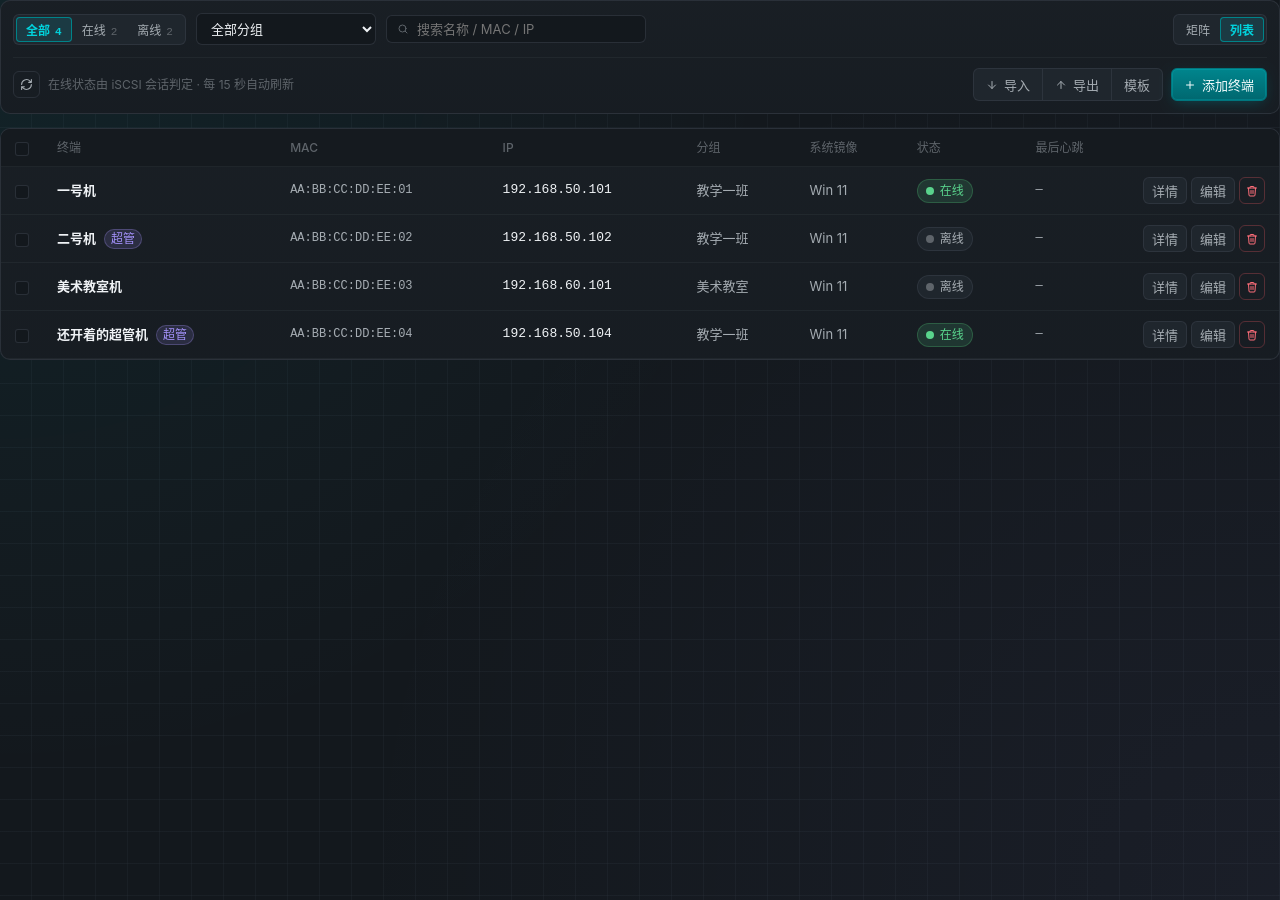
在线的客户机，编辑表单里的终端类型开关也禁用
Click the button "编辑" in the row of "一号机": (1213, 191) [1191,177,1235,204]
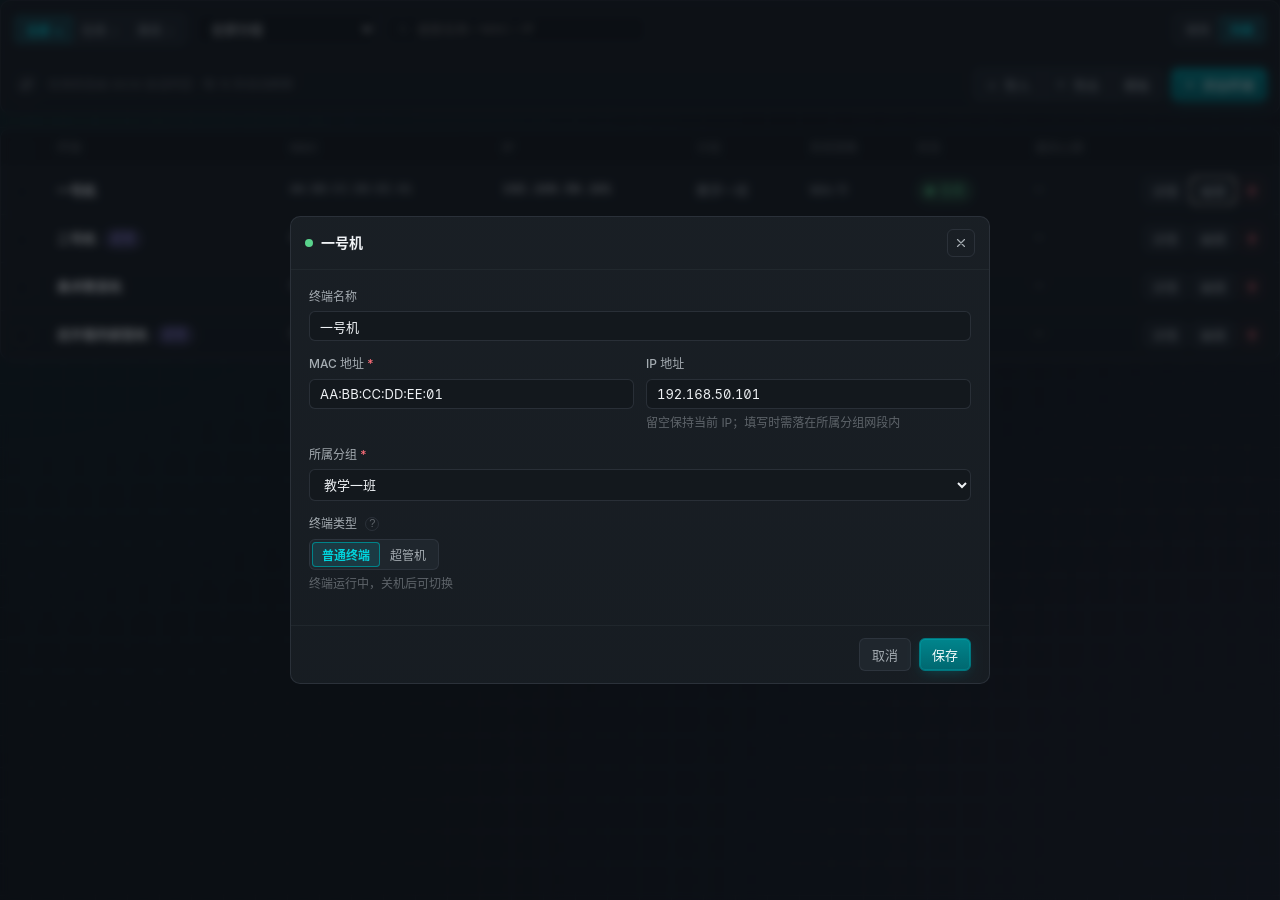
Result: the button "超管机" is disabled at [380,542,436,567]
Result: the button "普通终端" is disabled at [312,542,380,567]
Result: the text "终端运行中，关机后可切换" is shown at [309,576,453,591]
